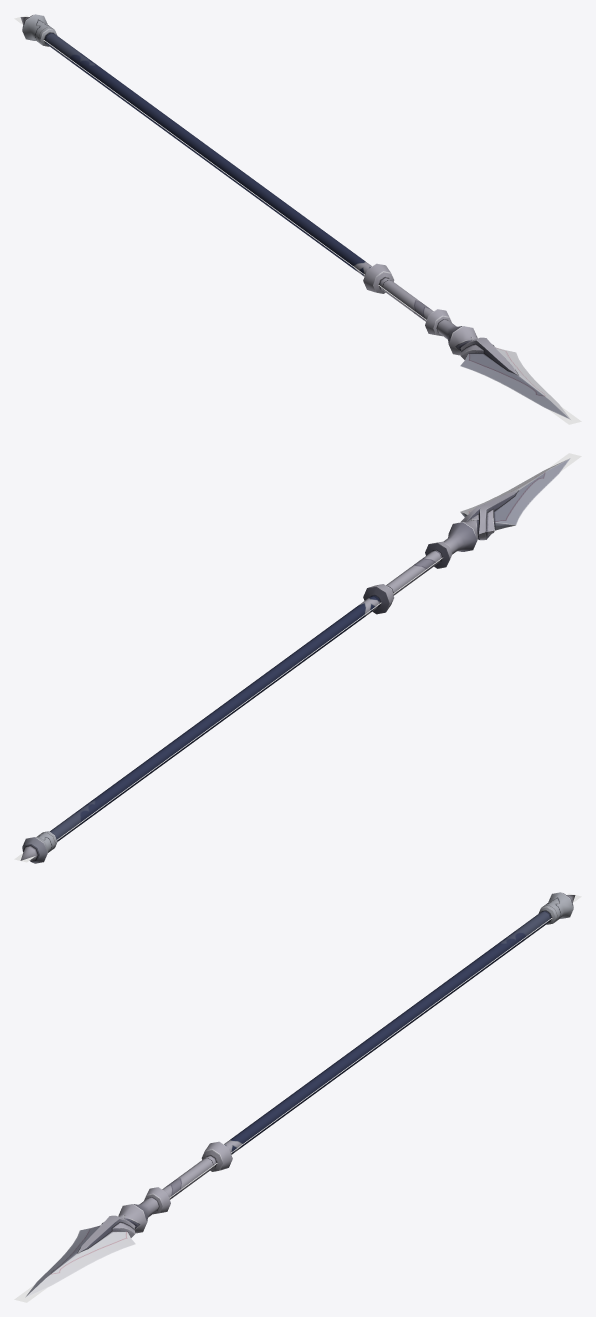
The model's file is Equip_Pole_Gewalt.fbx.
3 views of the same model, one above another, from view 1: azimuth 30°, elevation 25°; view 2: azimuth 150°, elevation 25°; view 3: azimuth 330°, elevation 25° (orthographic).
Parts seen in each view (by area): view 1: Equip_Pole_Gewalt_Model, Equip_Pole_EffectMesh; view 2: Equip_Pole_Gewalt_Model, Equip_Pole_EffectMesh; view 3: Equip_Pole_Gewalt_Model, Equip_Pole_EffectMesh.
Boxes of the visible parts, x1,y1,x2,y2 form: Equip_Pole_Gewalt_Model: (20,14,570,419); Equip_Pole_EffectMesh: (14,15,581,424); Equip_Pole_Gewalt_Model: (20,458,570,863); Equip_Pole_EffectMesh: (14,453,581,862); Equip_Pole_Gewalt_Model: (25,892,575,1297); Equip_Pole_EffectMesh: (14,893,581,1302).
Size of the model in its own units: 0.1231 by 0.066 by 2.1.
Materials: 2 (1 with a texture image).
